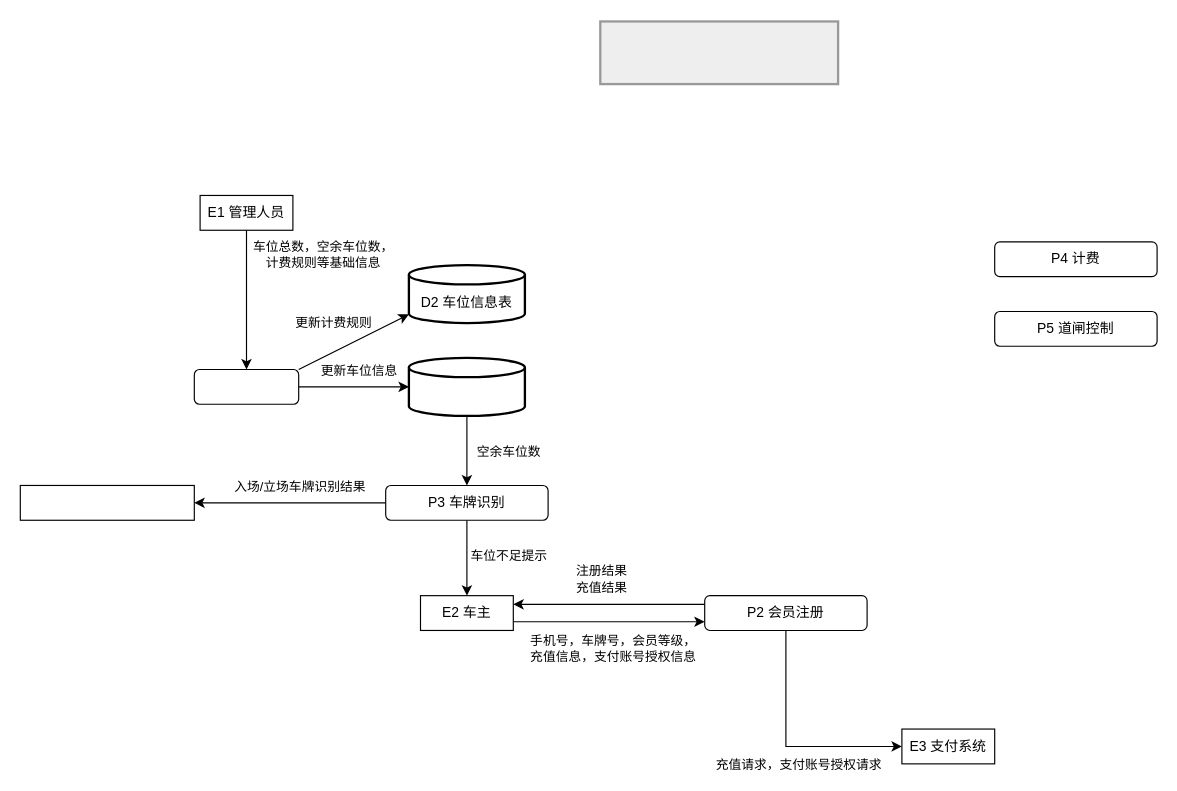
The diagram is 1177 pixels wide and 791 high, and some of its shapes have lost their labels. The shapes that lost their labels are listed below. From the top down, each one's centre as x and y in pixels, then its label:
At pixel 719 52: "20242501624 黄若麟".
At pixel 246 386: "P1 信息维护".
At pixel 466 386: "D1 车位信息表".
At pixel 106 502: "E5 车牌识别设备/子系统".
